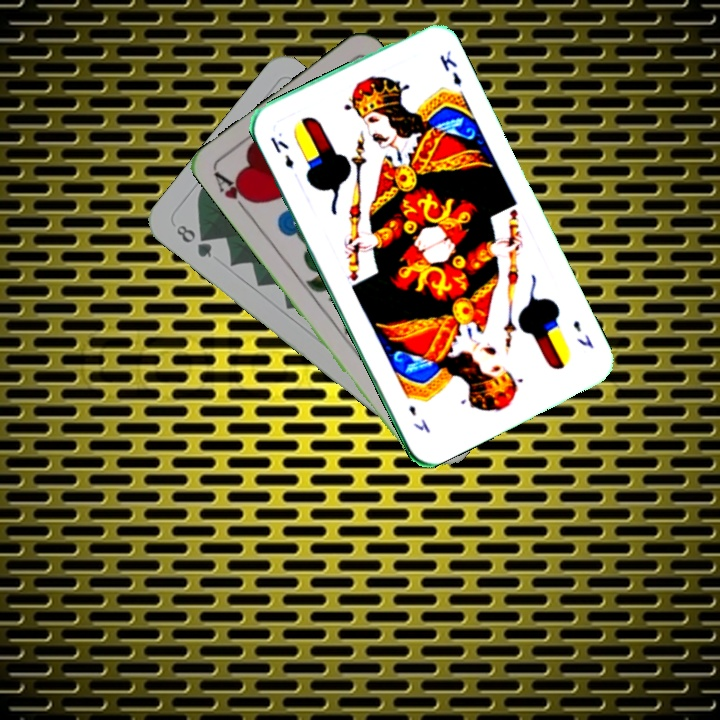EK: (266, 133, 297, 171), (569, 316, 596, 351)
G8: (172, 220, 215, 261)
HA: (210, 168, 259, 218)
